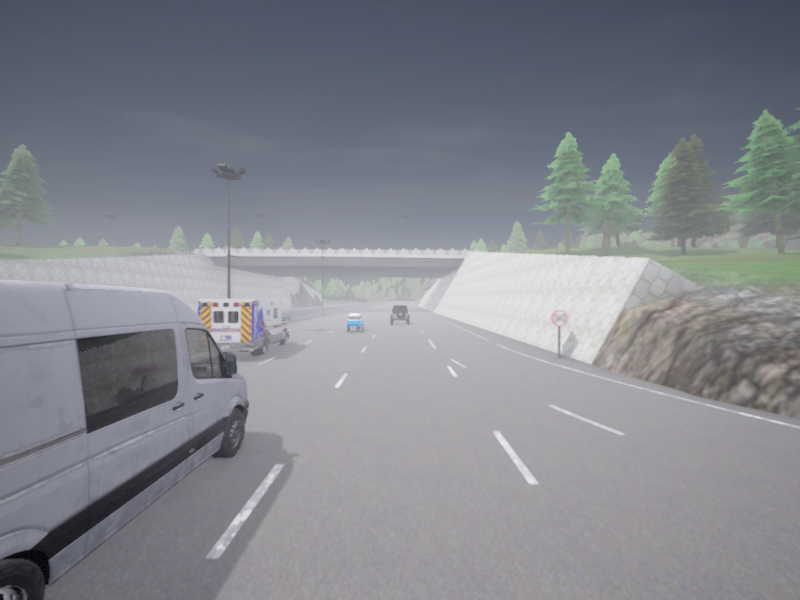vehicle: (0, 280, 248, 599), (198, 299, 290, 354), (346, 313, 364, 331), (391, 305, 408, 323)
